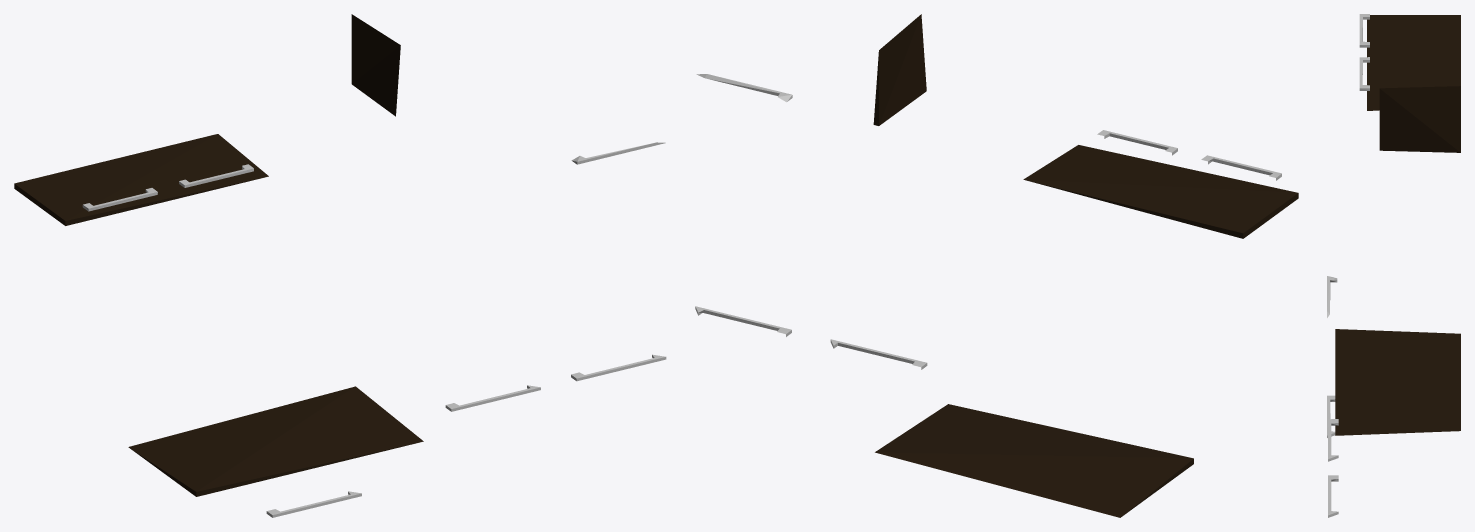
The model's file is closet.lod-v1.lod2.glb.
The picture shows the model from 3 angles, left to right: view 1: azimuth 30°, elevation 25°; view 2: azimuth 150°, elevation 25°; view 3: azimuth 270°, elevation 25°; orthographic projection. The views are drawn at different scales.
Parts seen in each view (by area): view 1: Corpus_Furniture1Wood1_0; view 2: Corpus_Furniture1Wood1_0; view 3: Corpus_Furniture1Wood1_0.
Boxes of the visible parts, x1,y1,x2,y2 form: Corpus_Furniture1Wood1_0: (14, 14, 666, 517); Corpus_Furniture1Wood1_0: (695, 14, 1298, 517); Corpus_Furniture1Wood1_0: (1327, 14, 1460, 517).
Bounding box in the file's own units: 2.42 × 1.65 × 0.5262.
